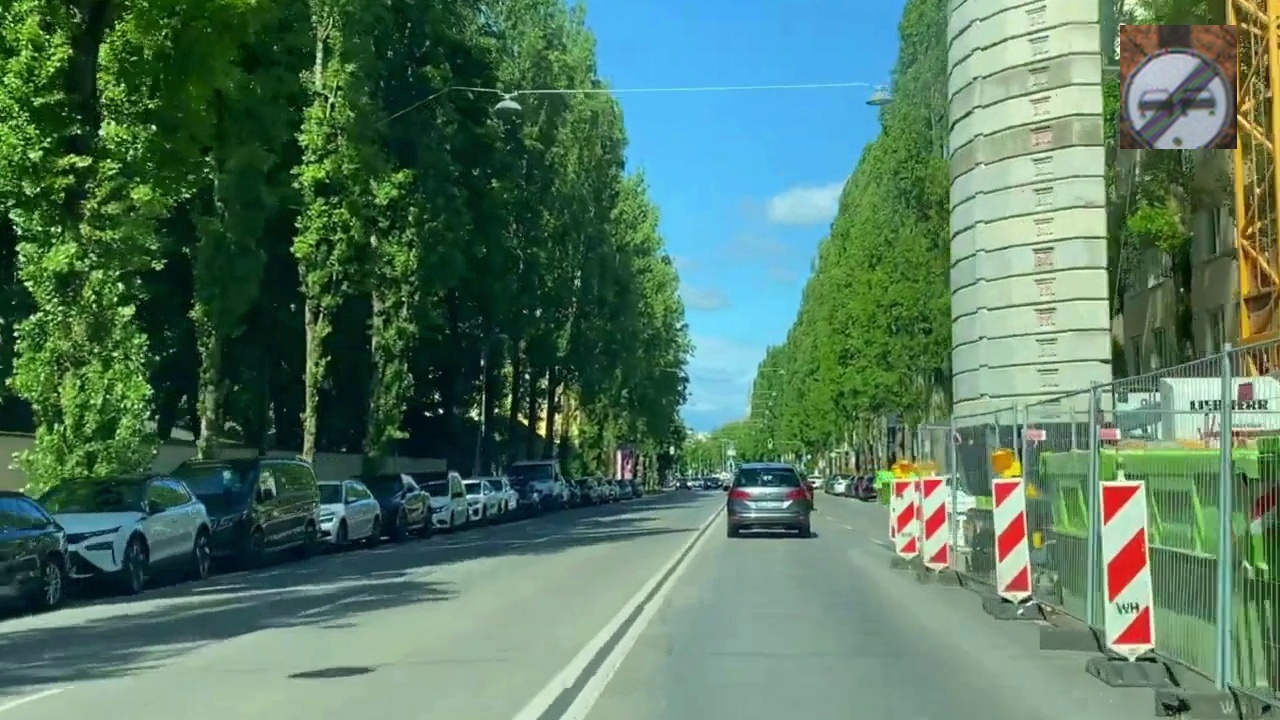End no pass: (1120, 25, 1237, 149)
